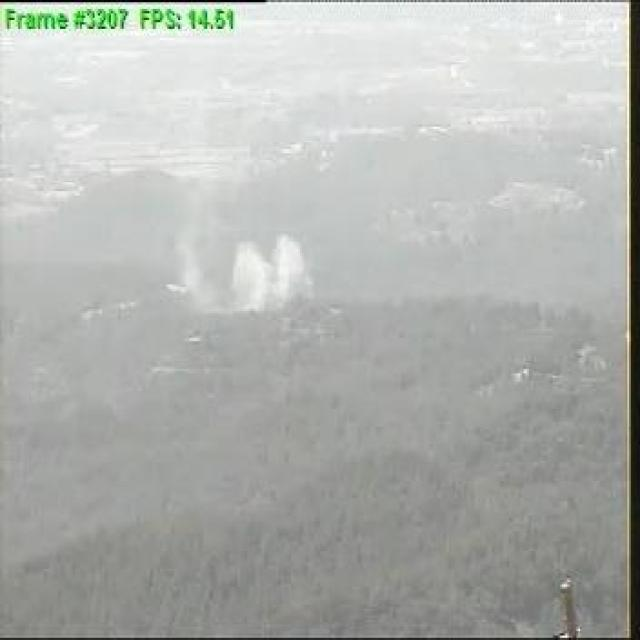Smoke: (174, 232, 322, 310)
